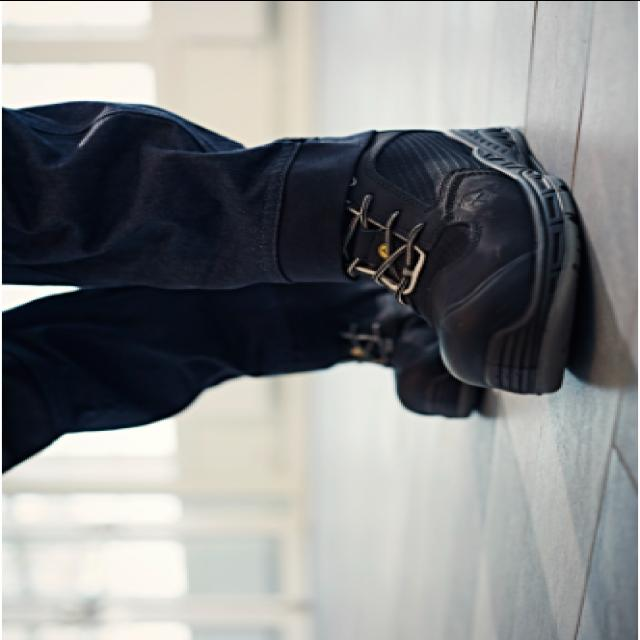boots: (249, 120, 582, 421)
